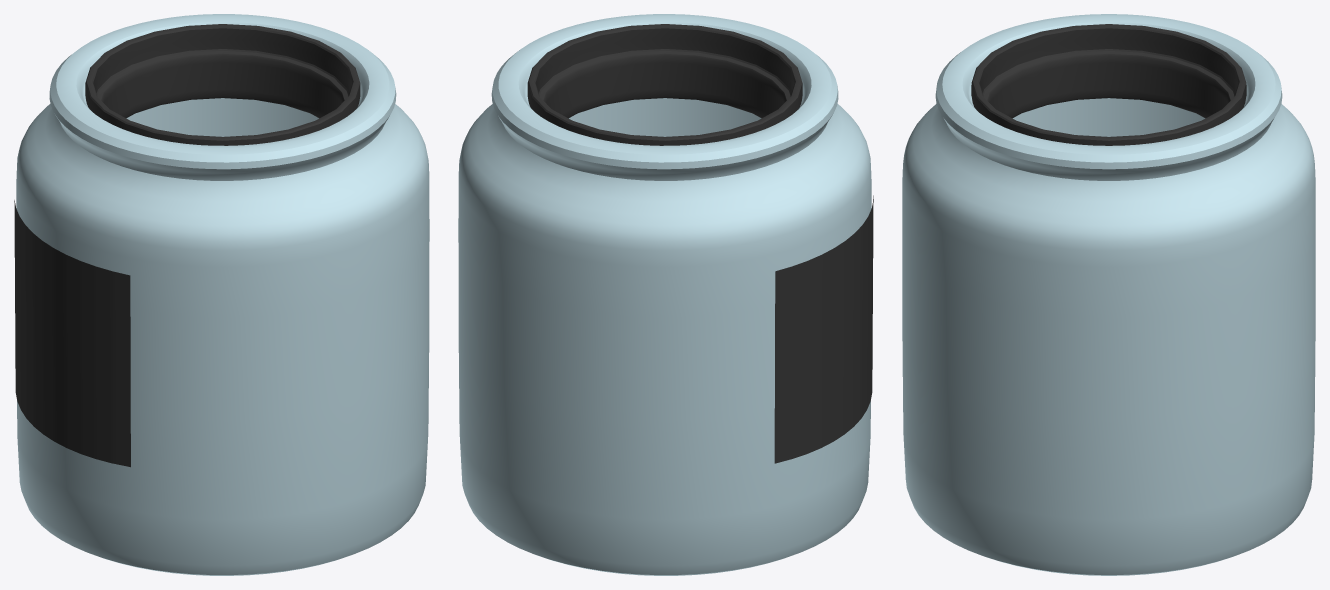
The model's file is VP_Kitchen_Jar_4_Body.FBX.
3 views of the same model, side by side, from view 1: azimuth 30°, elevation 25°; view 2: azimuth 150°, elevation 25°; view 3: azimuth 270°, elevation 25° (orthographic).
Parts seen in each view (by area): view 1: VP_Kitchen_Jar_4_Body; view 2: VP_Kitchen_Jar_4_Body; view 3: VP_Kitchen_Jar_4_Body.
Part boxes in pixels (bbox=[...]): VP_Kitchen_Jar_4_Body: bbox=[14, 14, 429, 575]; VP_Kitchen_Jar_4_Body: bbox=[458, 14, 873, 575]; VP_Kitchen_Jar_4_Body: bbox=[902, 14, 1315, 575].
Size of what is drawn, in the model's own units: 13.12 by 13.06 by 14.6.
